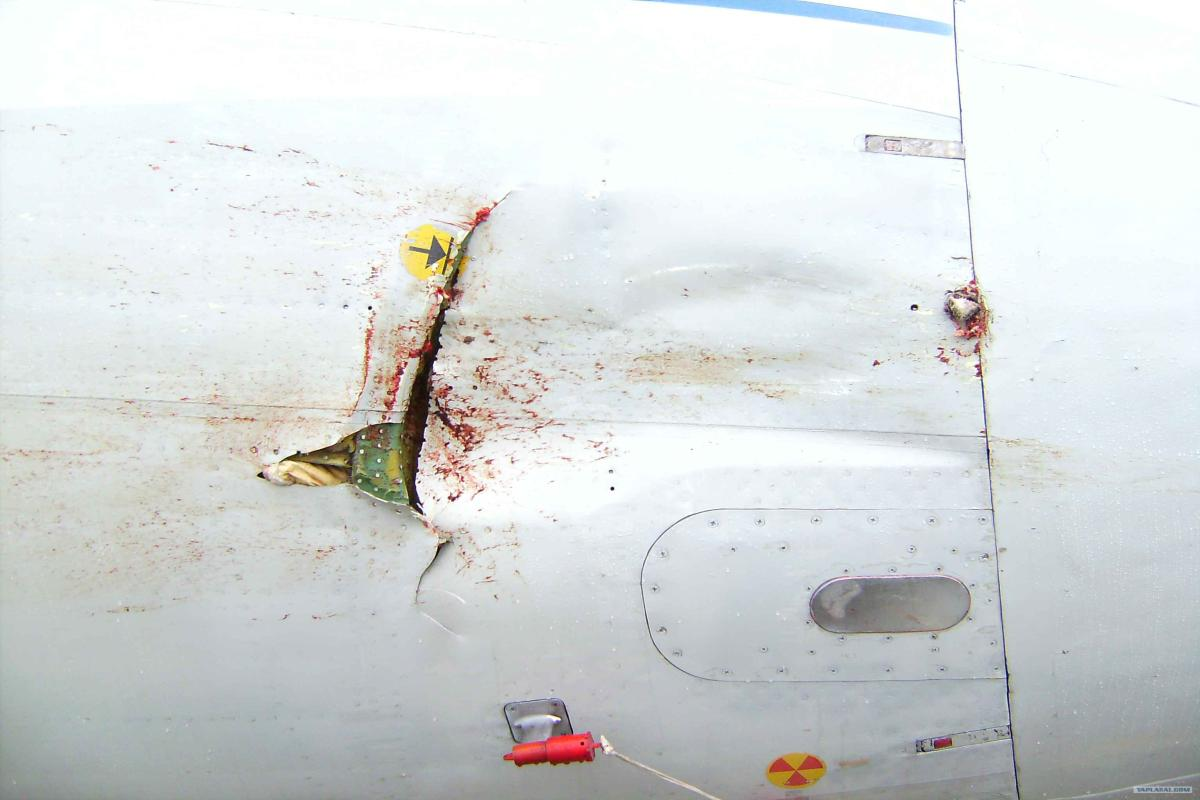Fuselage_damage: (242, 169, 531, 648), (930, 269, 1007, 373)
